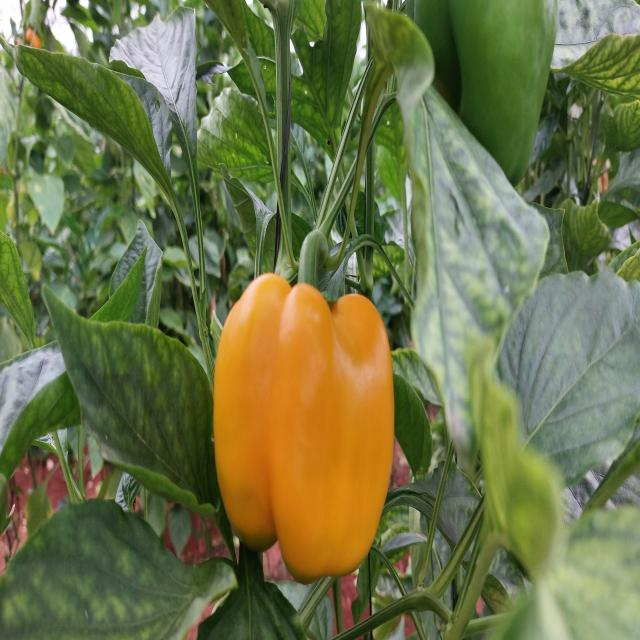Yellow-Ready-to-Harvest: (211, 272, 397, 582)
